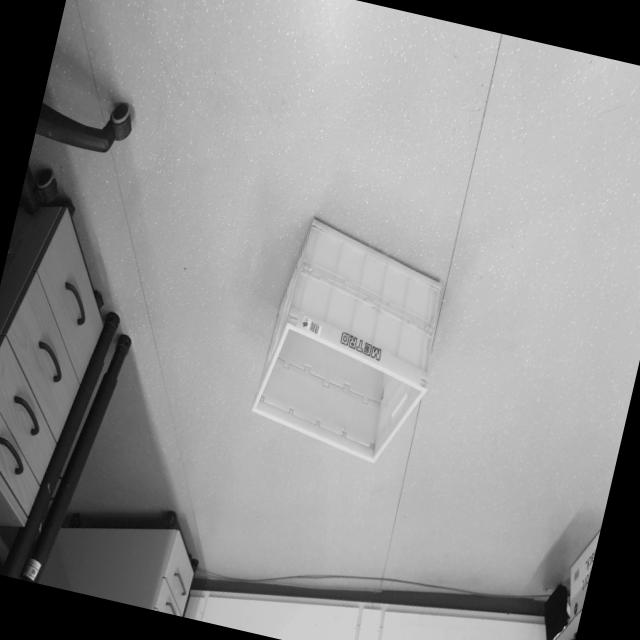box: (236, 192, 474, 483)
